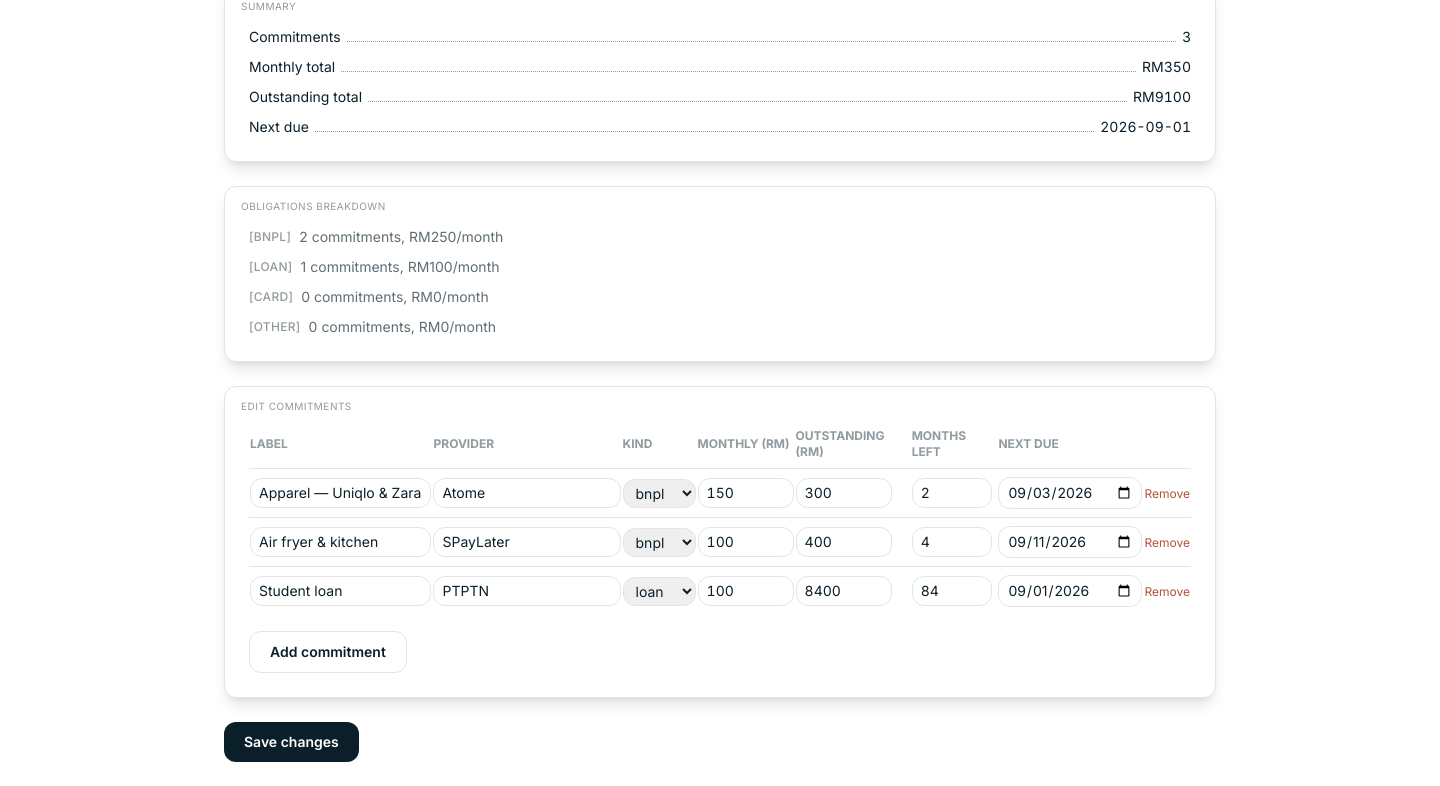
CommitmentsPage › shows an error instead of crashing when saving fails
The width and height of the screenshot is (1440, 786).
(page scrolled)
Check: the number field named "Monthly 1" is shown, box [698,478,794,508]
Click the button "Save changes" at (291, 742), box [224,722,359,762]
(page scrolled)
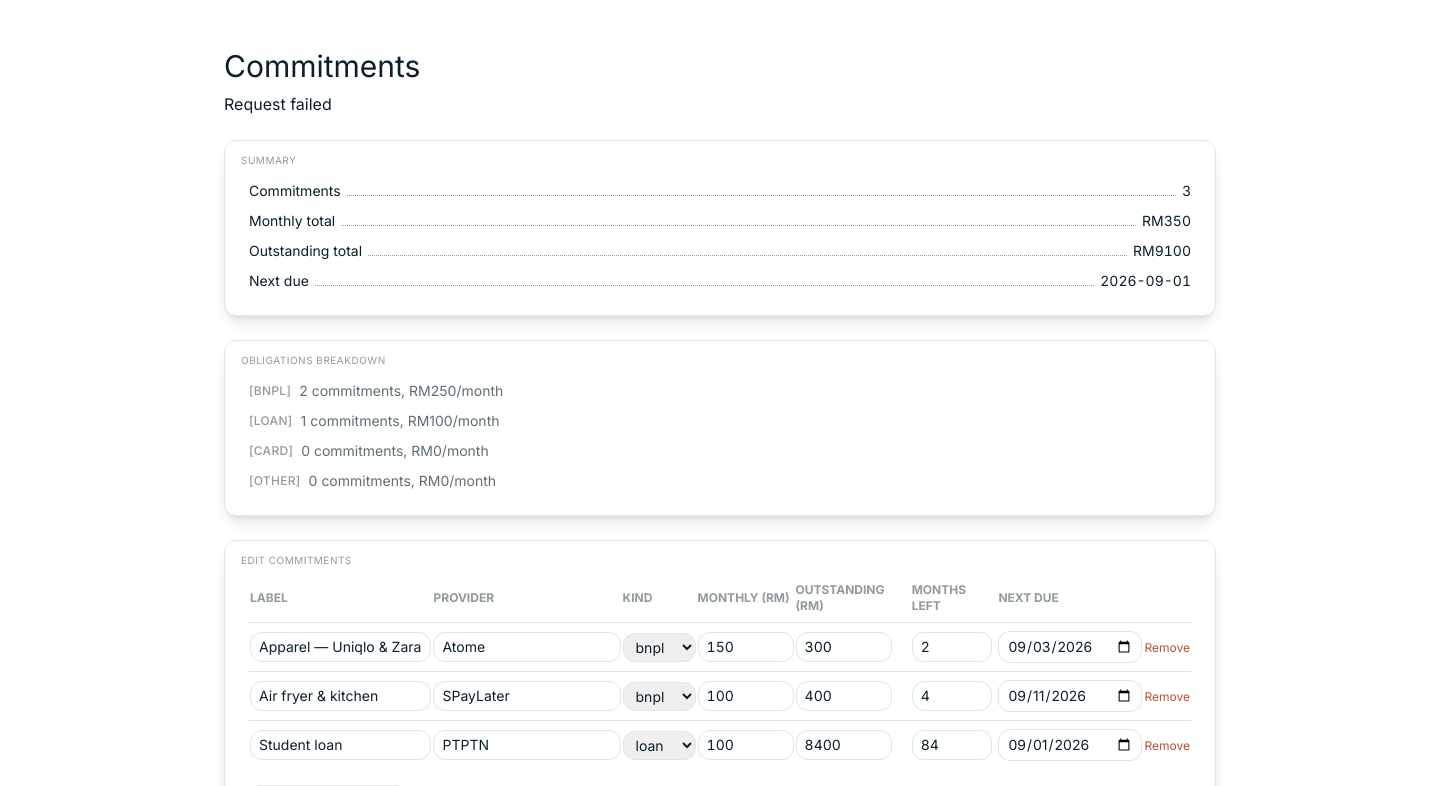
Check: the message reads "Request failed", box [224,94,332,114]
